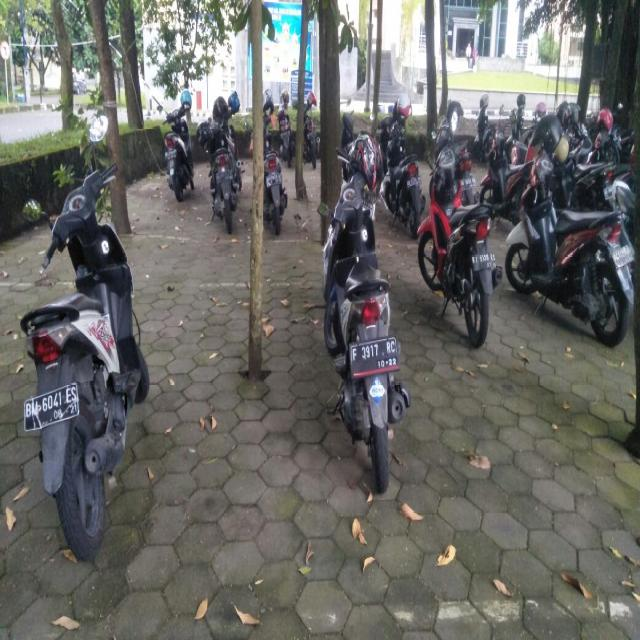plate: (23, 383, 79, 423), (350, 336, 400, 370), (470, 248, 496, 270), (612, 244, 633, 265), (265, 171, 282, 185), (407, 174, 421, 188)
